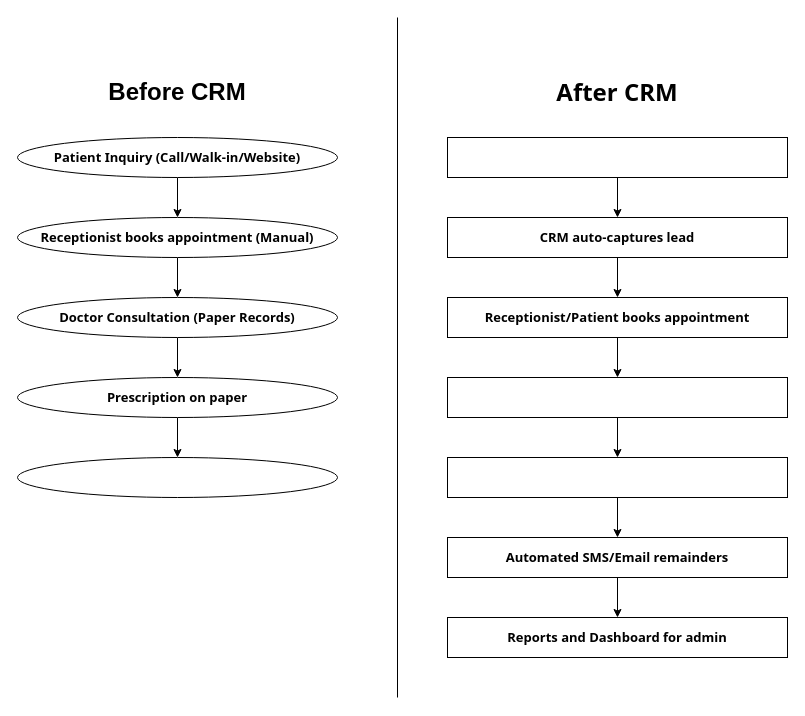
Some shapes in this 805 by 716 pixel diagram are drawn without their labels. The centre of each missing label's shape, as x and y in pixels:
"Doctor consultation (Digital records)" belongs at point (617, 397).
"No proper flow-up" belongs at point (177, 477).
"Patient Inquiry (Call/Website/Portal)" belongs at point (617, 157).
"Prescription stored in CRM" belongs at point (617, 477).
